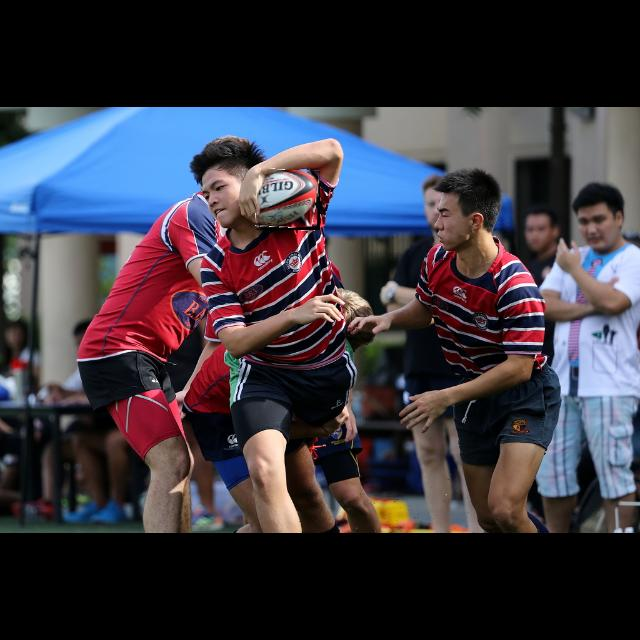Football: (256, 170, 320, 230)
